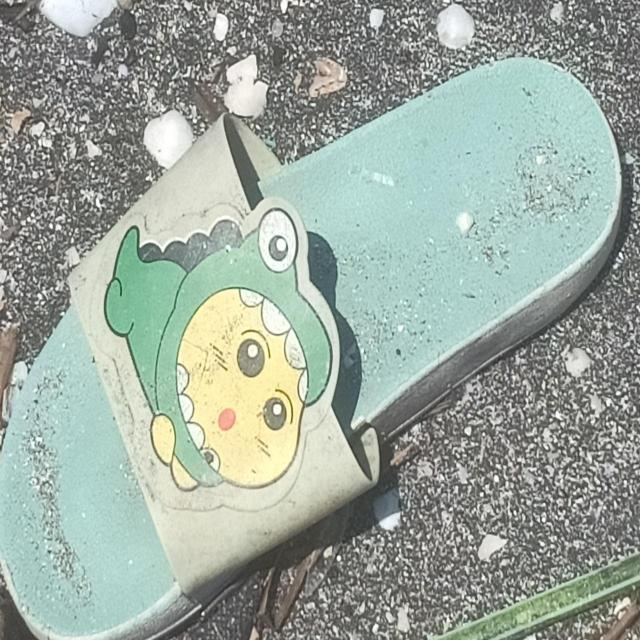rubber_waste: (5, 57, 629, 637)
